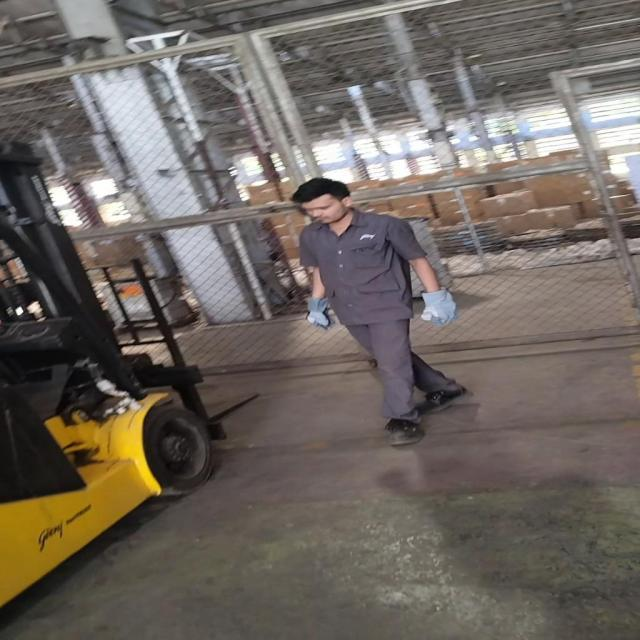Gloves-Detection: (417, 290, 466, 326), (306, 293, 334, 331)
